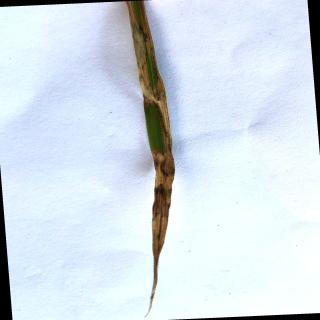Hawar-Daun: (124, 0, 173, 146), (152, 144, 175, 314)
